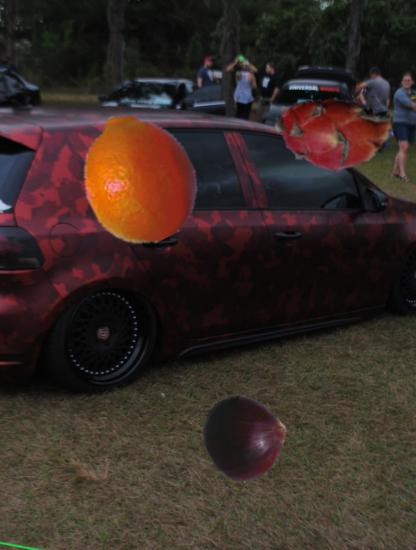Chestnut: (202, 395, 290, 483)
Pitahaya: (276, 75, 393, 192)
Tangelo: (72, 111, 205, 244)
